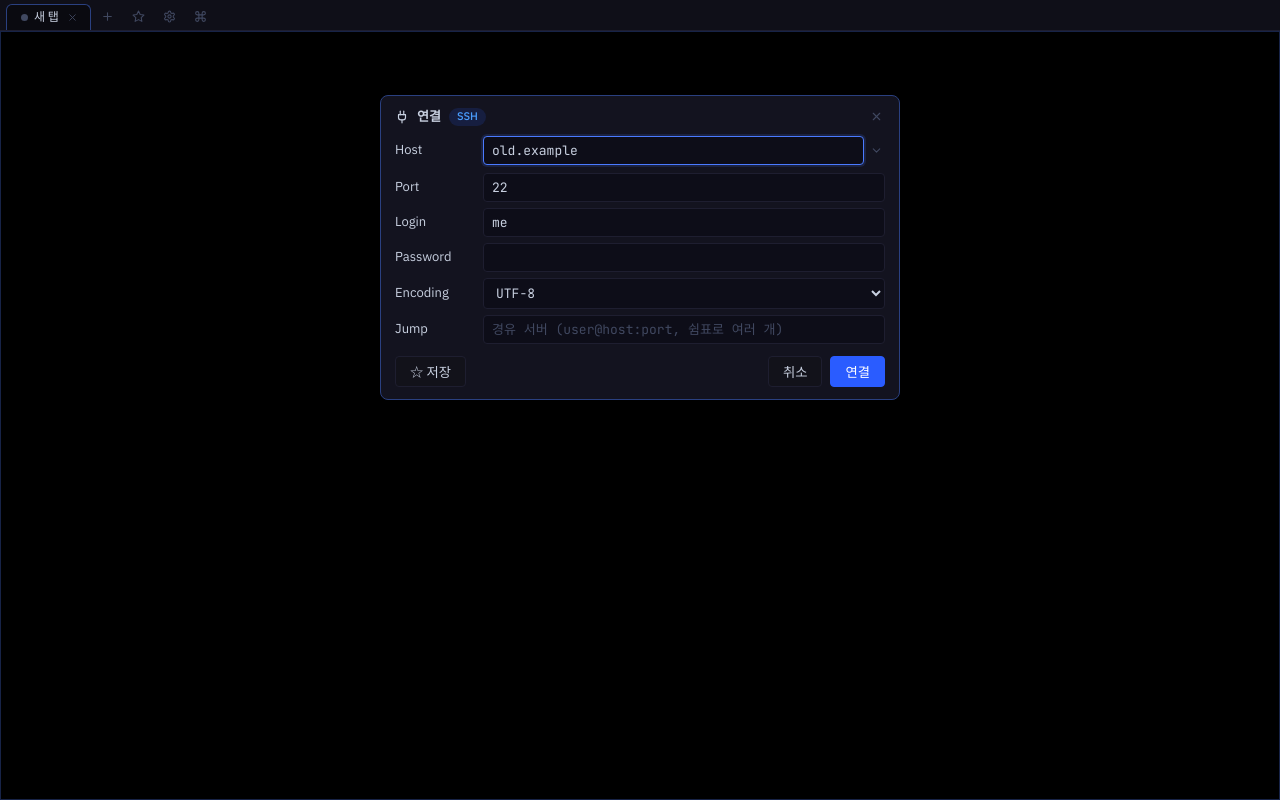
TerminalWorkspace (TW) › TW-09: 탭 닫기 버튼
Expected: the field labelled "Host" is shown, 483,136 -> 864,165
Step 1. Click the button titled "탭 닫기 (Ctrl+Shift+W)" → (72, 17), box 65,10 -> 80,25
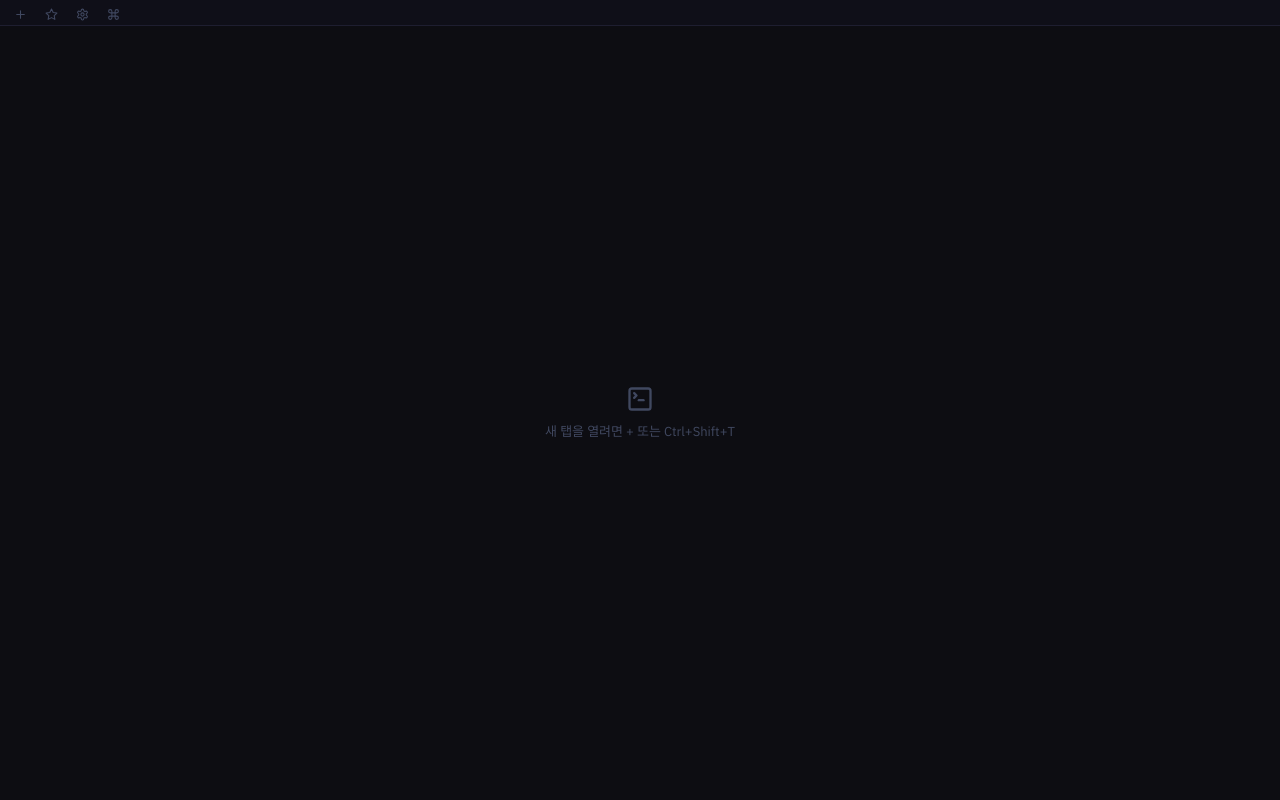
Now the text "새 탭을 열려면 + 또는 Ctrl+Shift+T" is shown, box 545,423 -> 735,441
